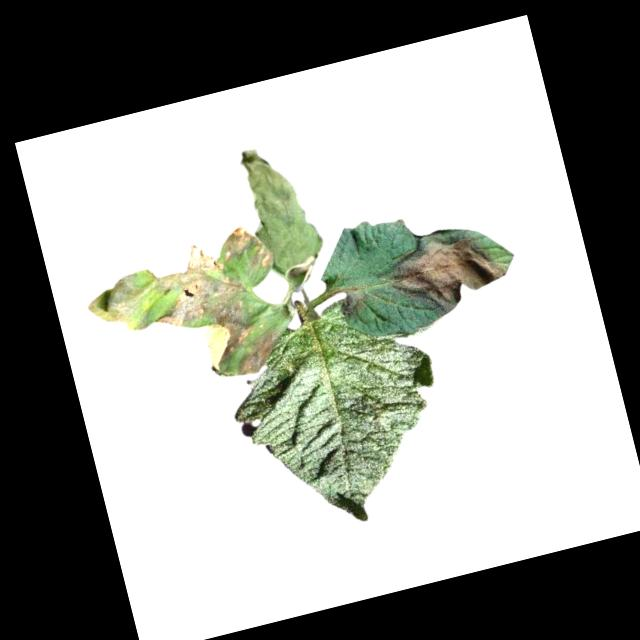Late_blight: (135, 219, 299, 393), (381, 225, 513, 324), (234, 135, 326, 275), (79, 272, 146, 330), (336, 284, 372, 318)
healthy: (213, 282, 465, 546)
